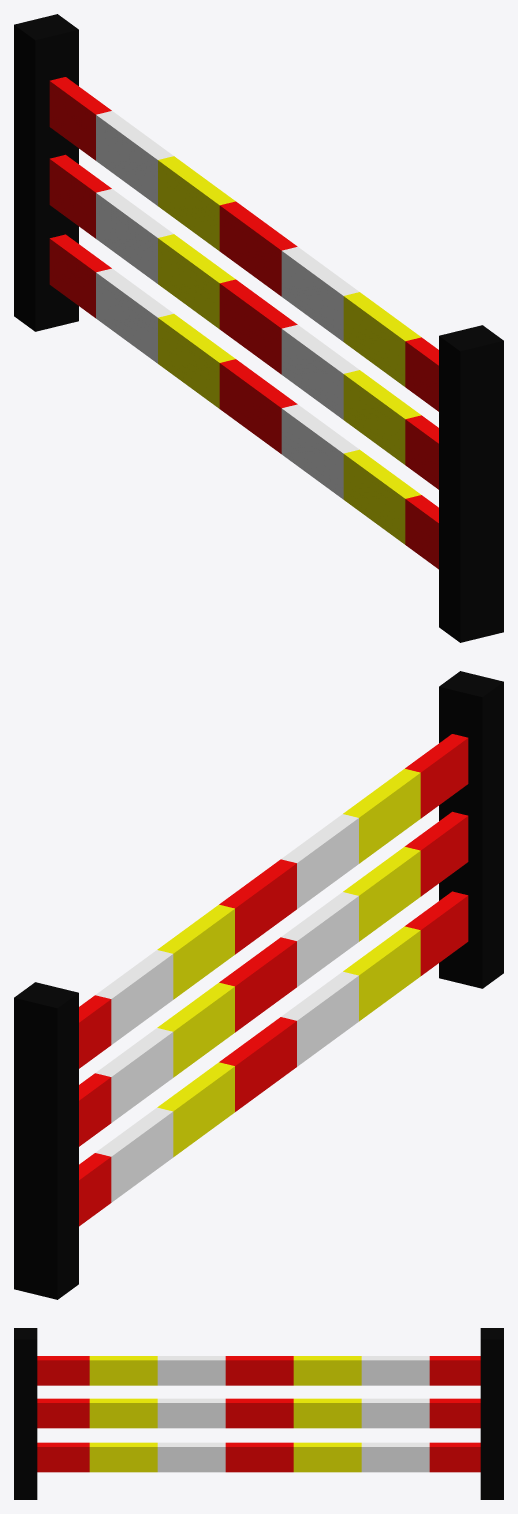
Rendered from barrier2.FBX.
3 renders of one model, top to bottom at view 1: azimuth 30°, elevation 25°; view 2: azimuth 150°, elevation 25°; view 3: azimuth 270°, elevation 25°, orthographic. The views are drawn at different scales.
Parts seen in each view (by area): view 1: Box004; view 2: Box004; view 3: Box004.
Part boxes in pixels (<box>): Box004: <box>14,14,503,642</box>; Box004: <box>14,671,503,1299</box>; Box004: <box>14,1328,503,1499</box>.
Size of the model in its own units: 5.06 by 32.25 by 89.48.
